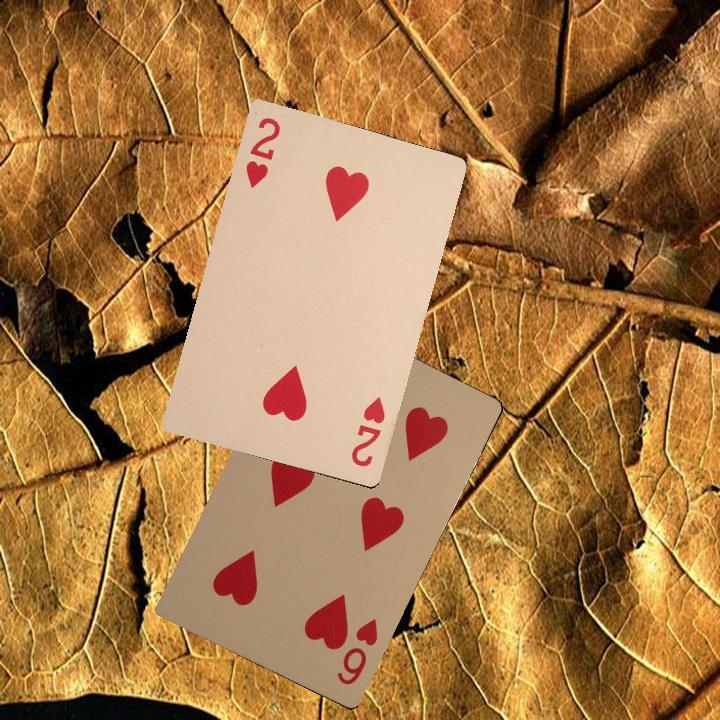2h: (241, 113, 283, 191), (347, 393, 388, 470)
6h: (332, 616, 381, 688)
